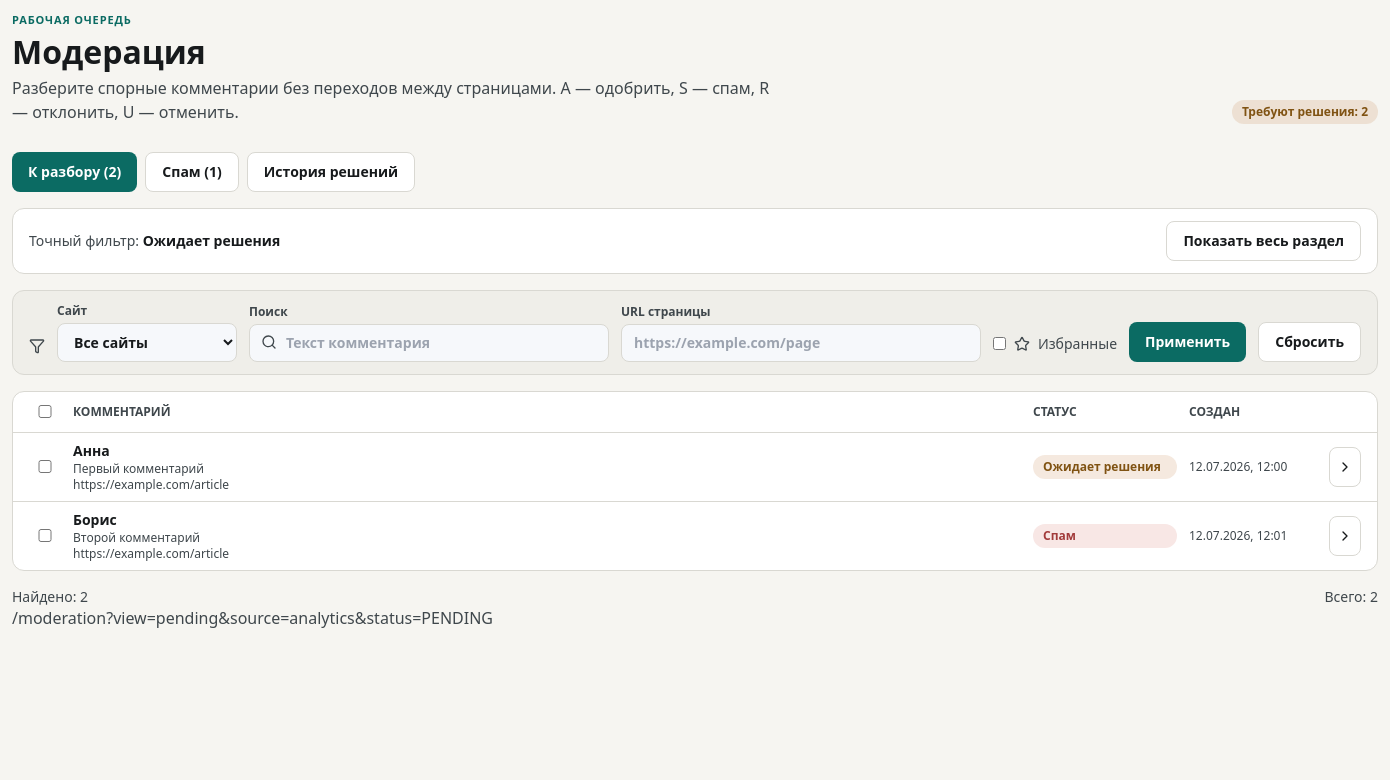
Test: страница модерации › после ручного применения фильтров перестаёт считать аналитическую ссылку авторитетной
Expected: the text "Первый комментарий" is shown, [73,460,204,477]
Type "важный текст" into the field labelled "Поиск". click: (429, 343)
box: [249,324,609,362]
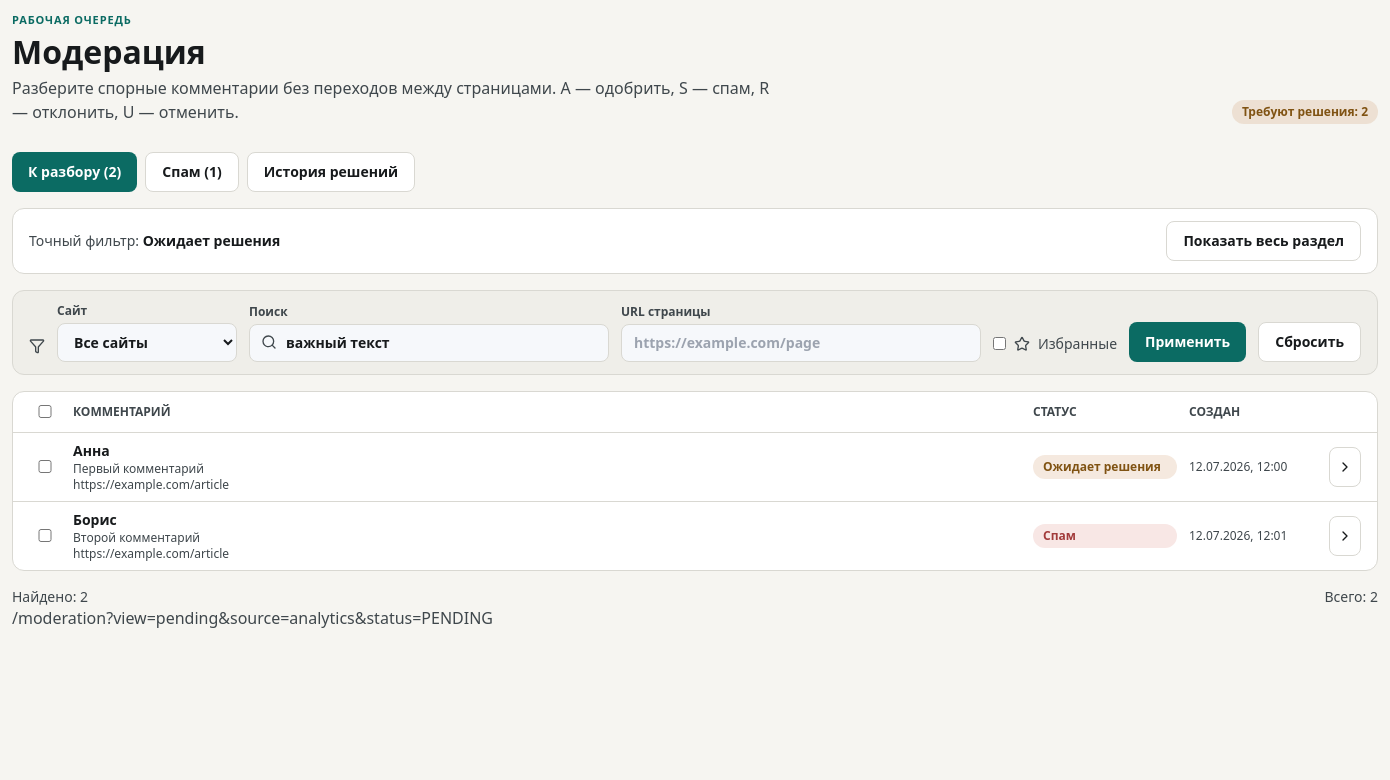
Click the button "Применить". click: (1188, 342)
box: [1129,322,1246,362]
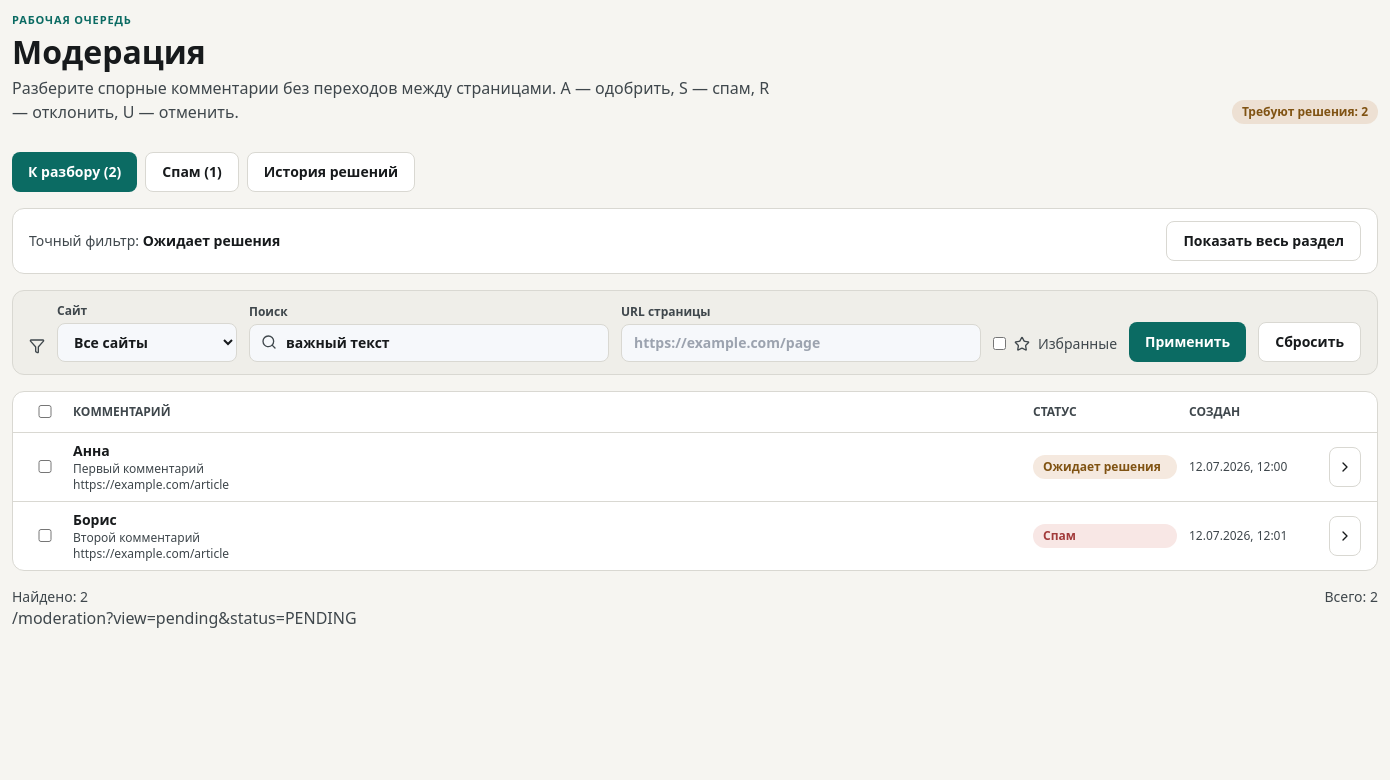
Now the text with test id "current-location" reads "/moderation?view=pending&status=PENDING", box [12,607,356,629]
